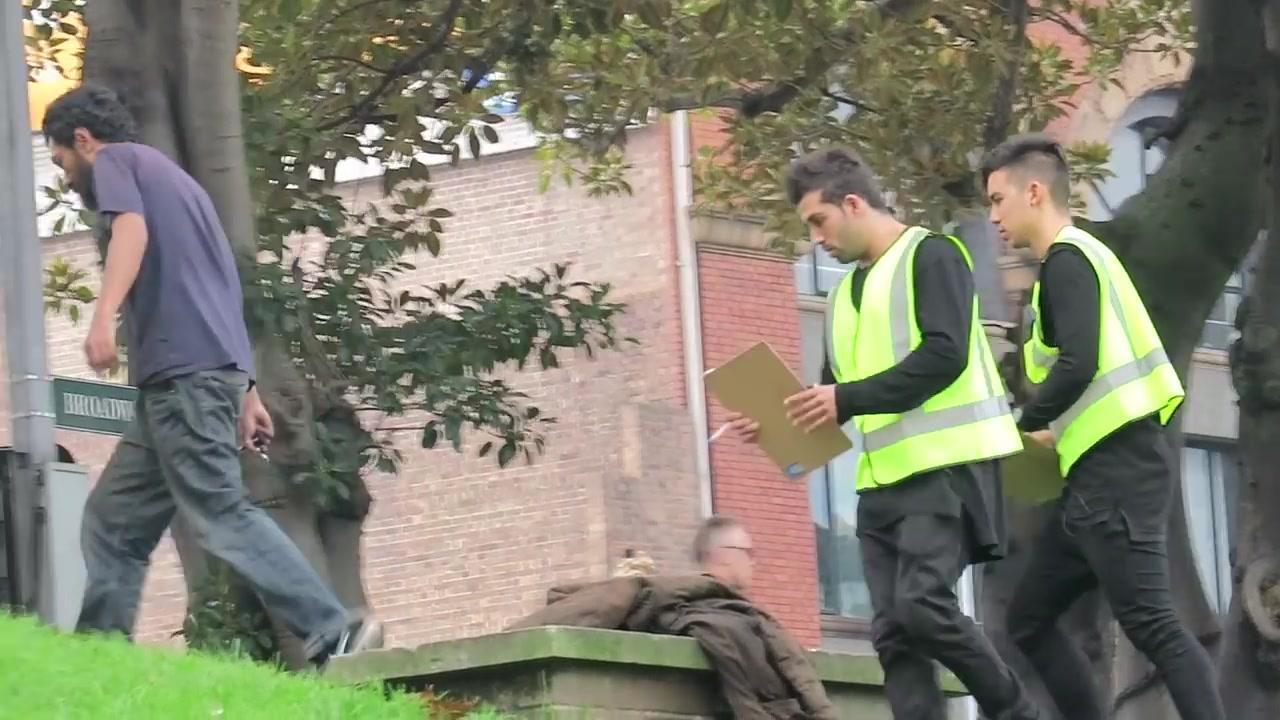vest: (825, 222, 1024, 493), (1025, 214, 1186, 478)
